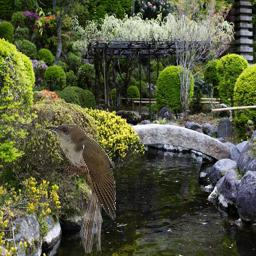Cuckoo: (44, 123, 116, 253)
